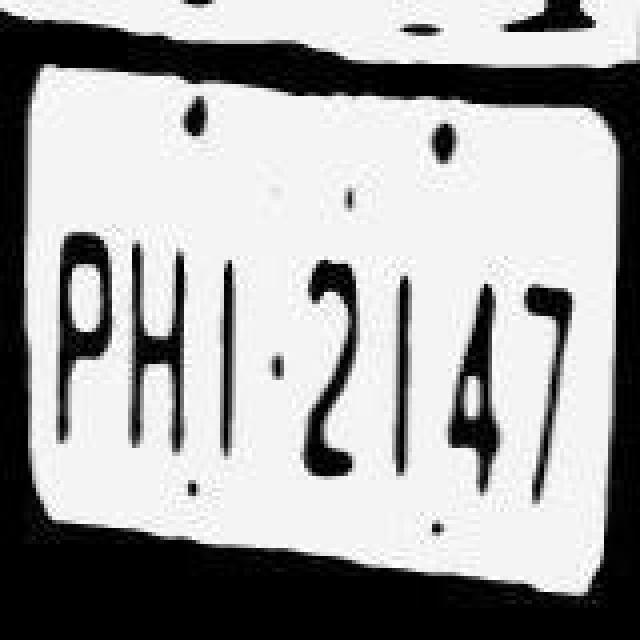1: (384, 226, 432, 478), (210, 258, 262, 486)
2: (292, 224, 380, 480)
4: (442, 256, 510, 504)
7: (510, 264, 586, 512)
H: (122, 230, 198, 458)
P: (46, 226, 122, 470)
